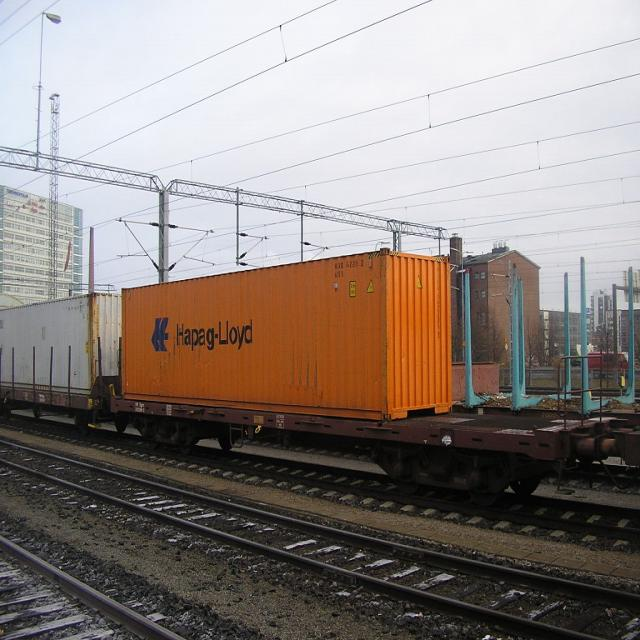container: (118, 242, 455, 429), (0, 286, 121, 398)
flatcar: (107, 390, 618, 504), (0, 385, 114, 437)
